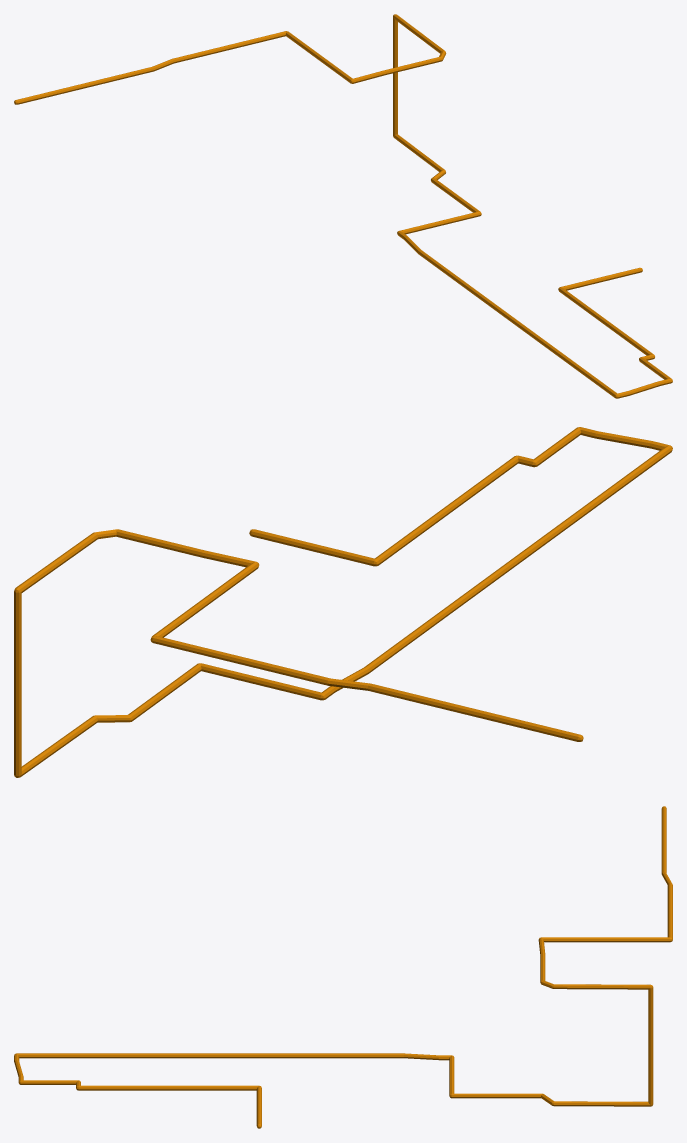
The picture shows the model from 3 angles, top to bottom: view 1: azimuth 30°, elevation 25°; view 2: azimuth 150°, elevation 25°; view 3: azimuth 270°, elevation 25°; orthographic projection. The views are drawn at different scales.
Size of the model in its own units: 1858 by 520 by 2551.
